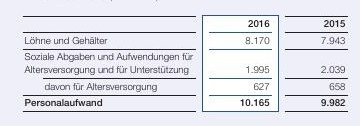table: (0, 0, 360, 126)
